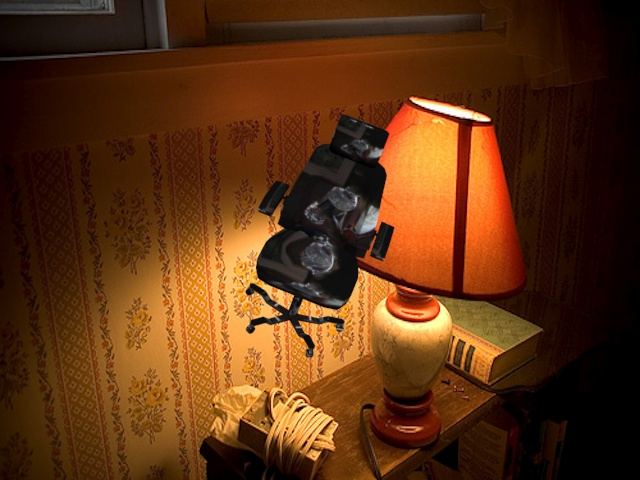desk_chair: (241, 113, 400, 360)
